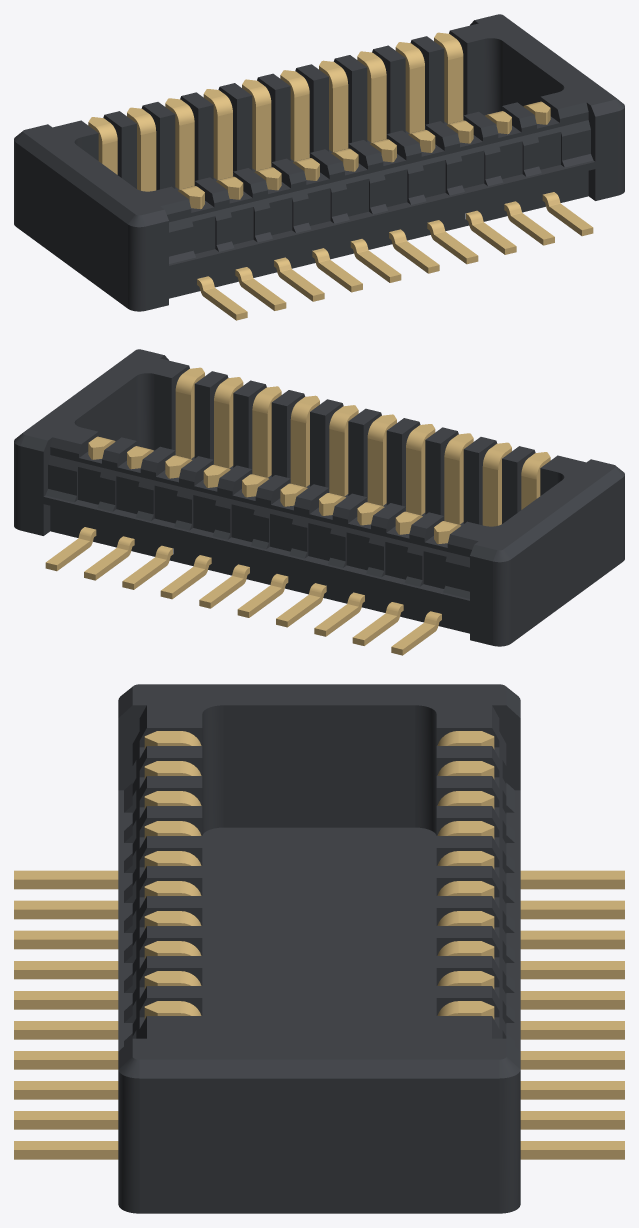
Rendered from kc-molex_slimstack_55560-0201_2x10_p0.50mm_vertical.glb.
The picture shows the model from 3 angles, top to bottom: view 1: azimuth 30°, elevation 25°; view 2: azimuth 150°, elevation 25°; view 3: azimuth 270°, elevation 25°; orthographic projection. The views are drawn at different scales.
Parts seen in each view (by area): view 1: 0.08333333333333333_0.08333333333333333_0.08333333333333333_, 0.75_0.5_0.25_0.9; view 2: 0.08333333333333333_0.08333333333333333_0.08333333333333333_, 0.75_0.5_0.25_0.9; view 3: 0.08333333333333333_0.08333333333333333_0.08333333333333333_, 0.75_0.5_0.25_0.9.
Boxes of the visible parts, x1=… form: 0.08333333333333333_0.08333333333333333_0.08333333333333333_: x1=14, y1=14, x2=624, y2=311; 0.75_0.5_0.25_0.9: x1=88, y1=32, x2=593, y2=320; 0.08333333333333333_0.08333333333333333_0.08333333333333333_: x1=14, y1=349, x2=624, y2=646; 0.75_0.5_0.25_0.9: x1=45, y1=367, x2=550, y2=655; 0.08333333333333333_0.08333333333333333_0.08333333333333333_: x1=118, y1=684, x2=520, y2=1213; 0.75_0.5_0.25_0.9: x1=14, y1=731, x2=624, y2=1159.
Size of the model in its own units: 0.645 by 0.115 by 0.43.
